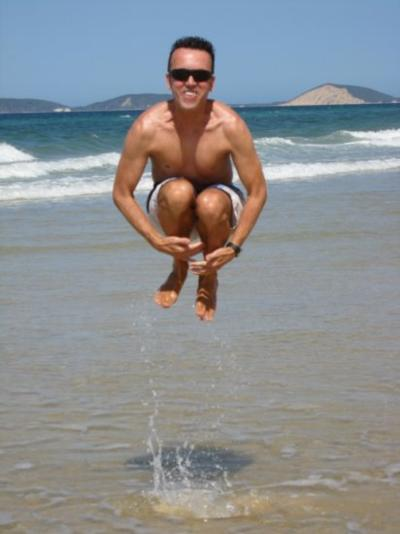person: (111, 36, 268, 327)
